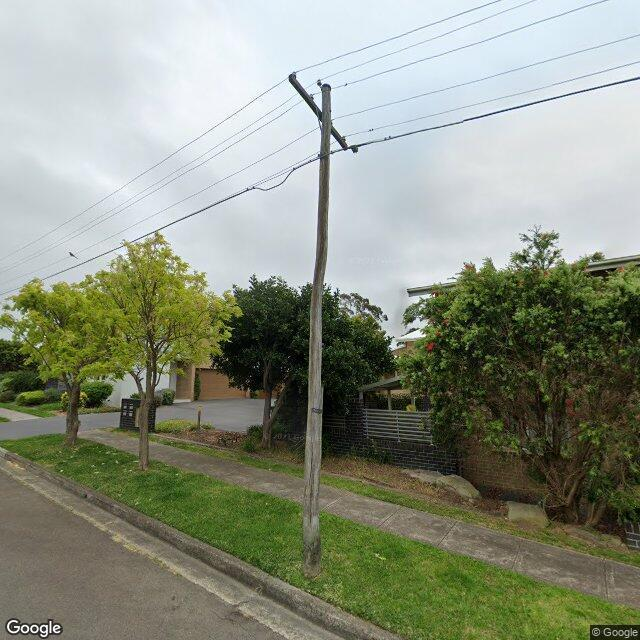crossarm: (288, 73, 349, 152)
timber-pole: (300, 83, 332, 579)
